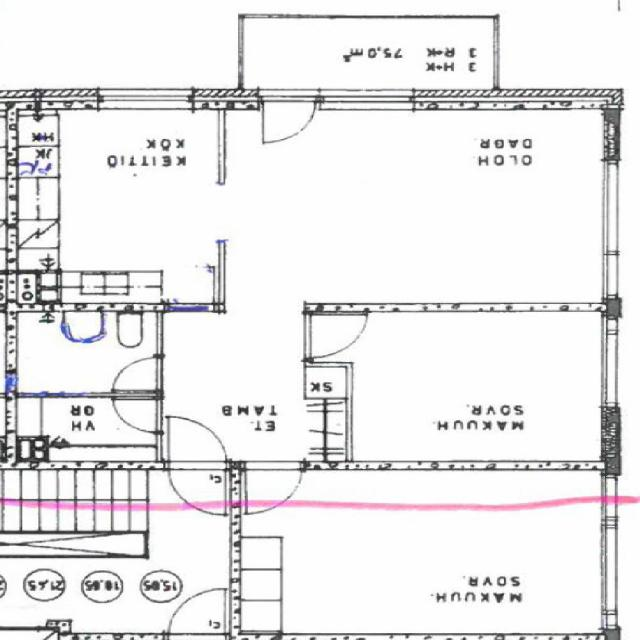door: (263, 90, 316, 149), (168, 416, 226, 469), (168, 460, 226, 513), (244, 460, 300, 513), (304, 314, 368, 357), (113, 358, 162, 390), (114, 399, 162, 431)
